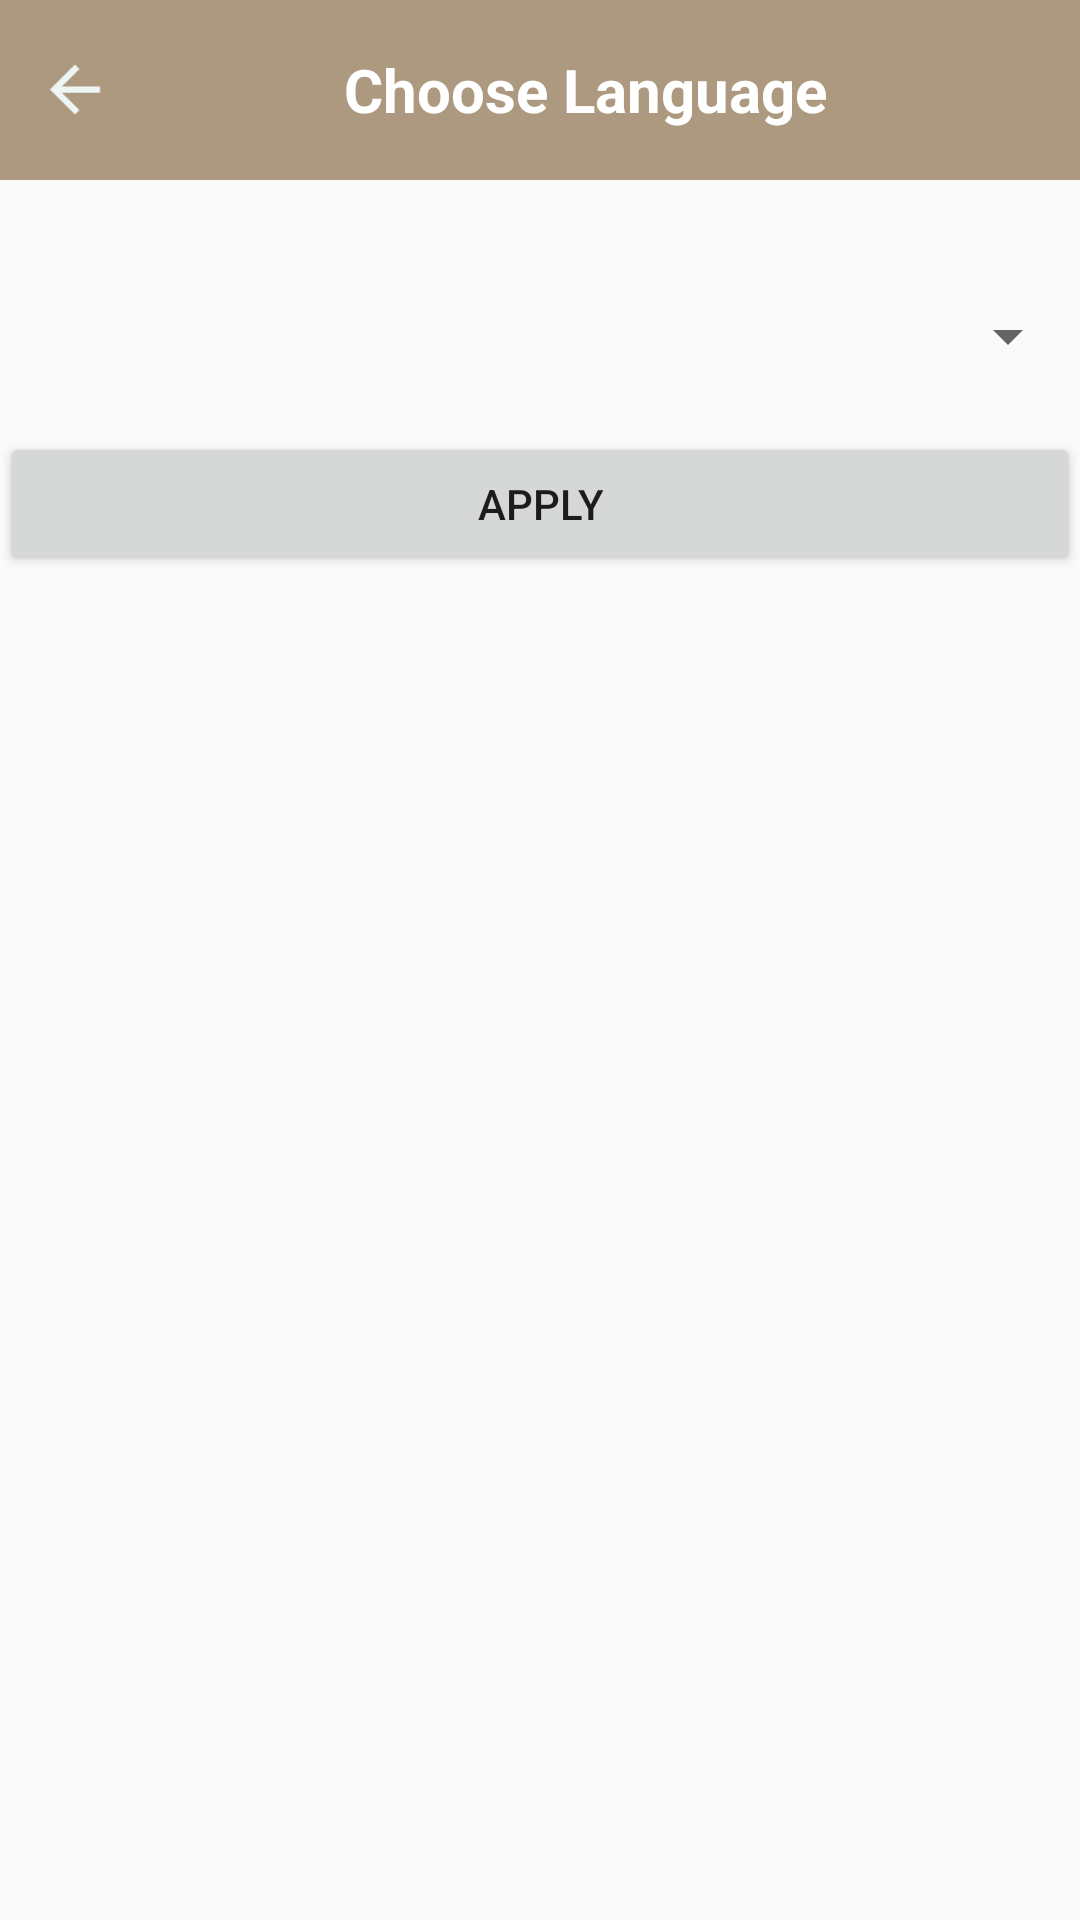

Named icons in this screenshot (1080w x 1920h) and their bounding boxes, (x1, y1, x2, y2):
arrow back: (50, 65, 101, 114)
